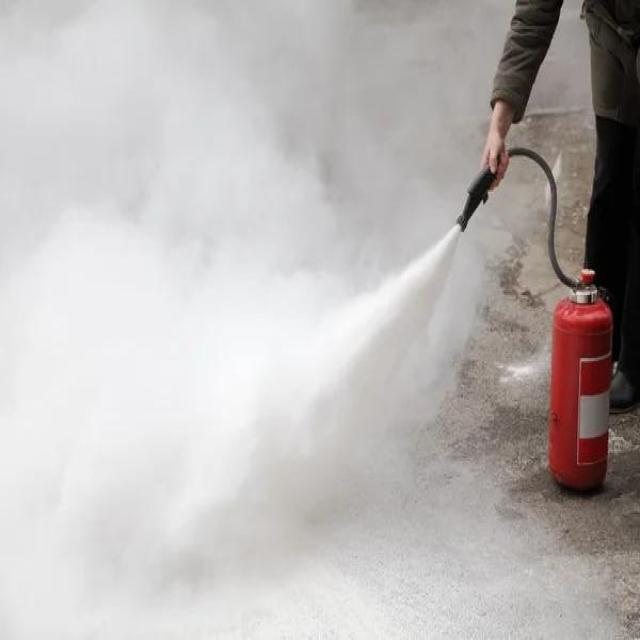fire_extinguisher: (452, 141, 616, 502)
